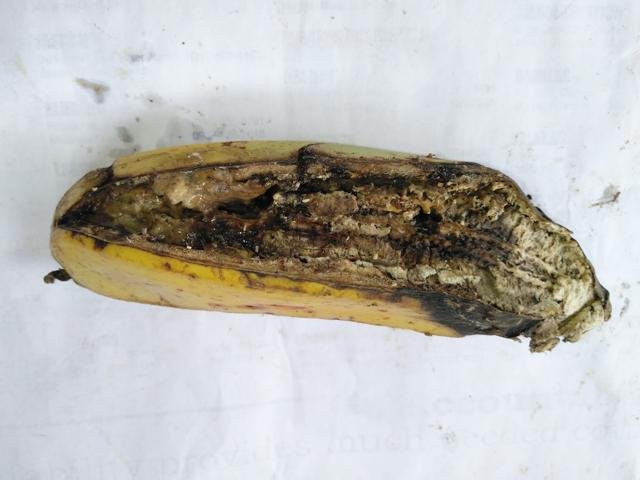rotten: (54, 113, 631, 357)
